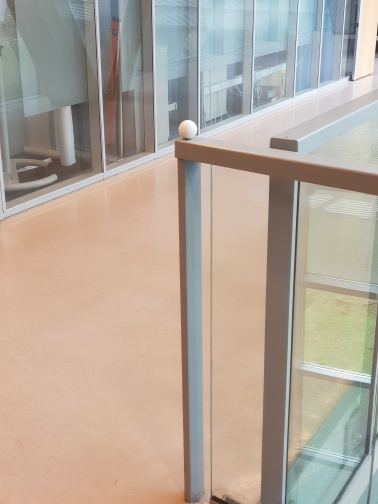egg: (176, 119, 200, 141)
